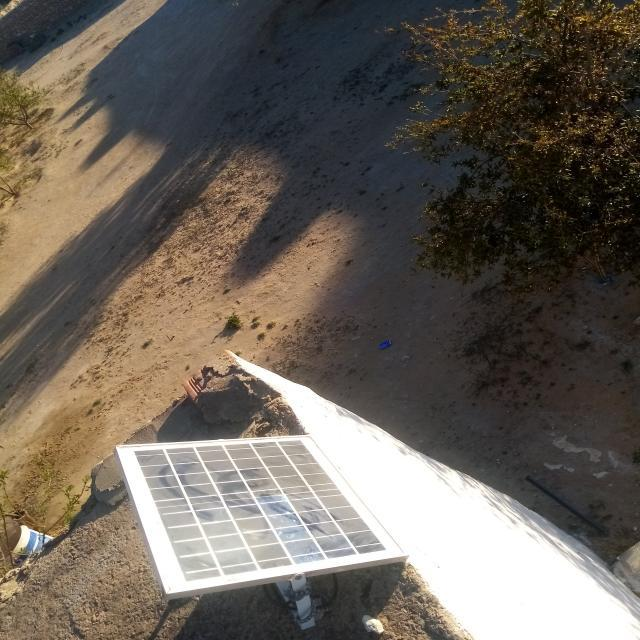faulty: (115, 435, 408, 595)
